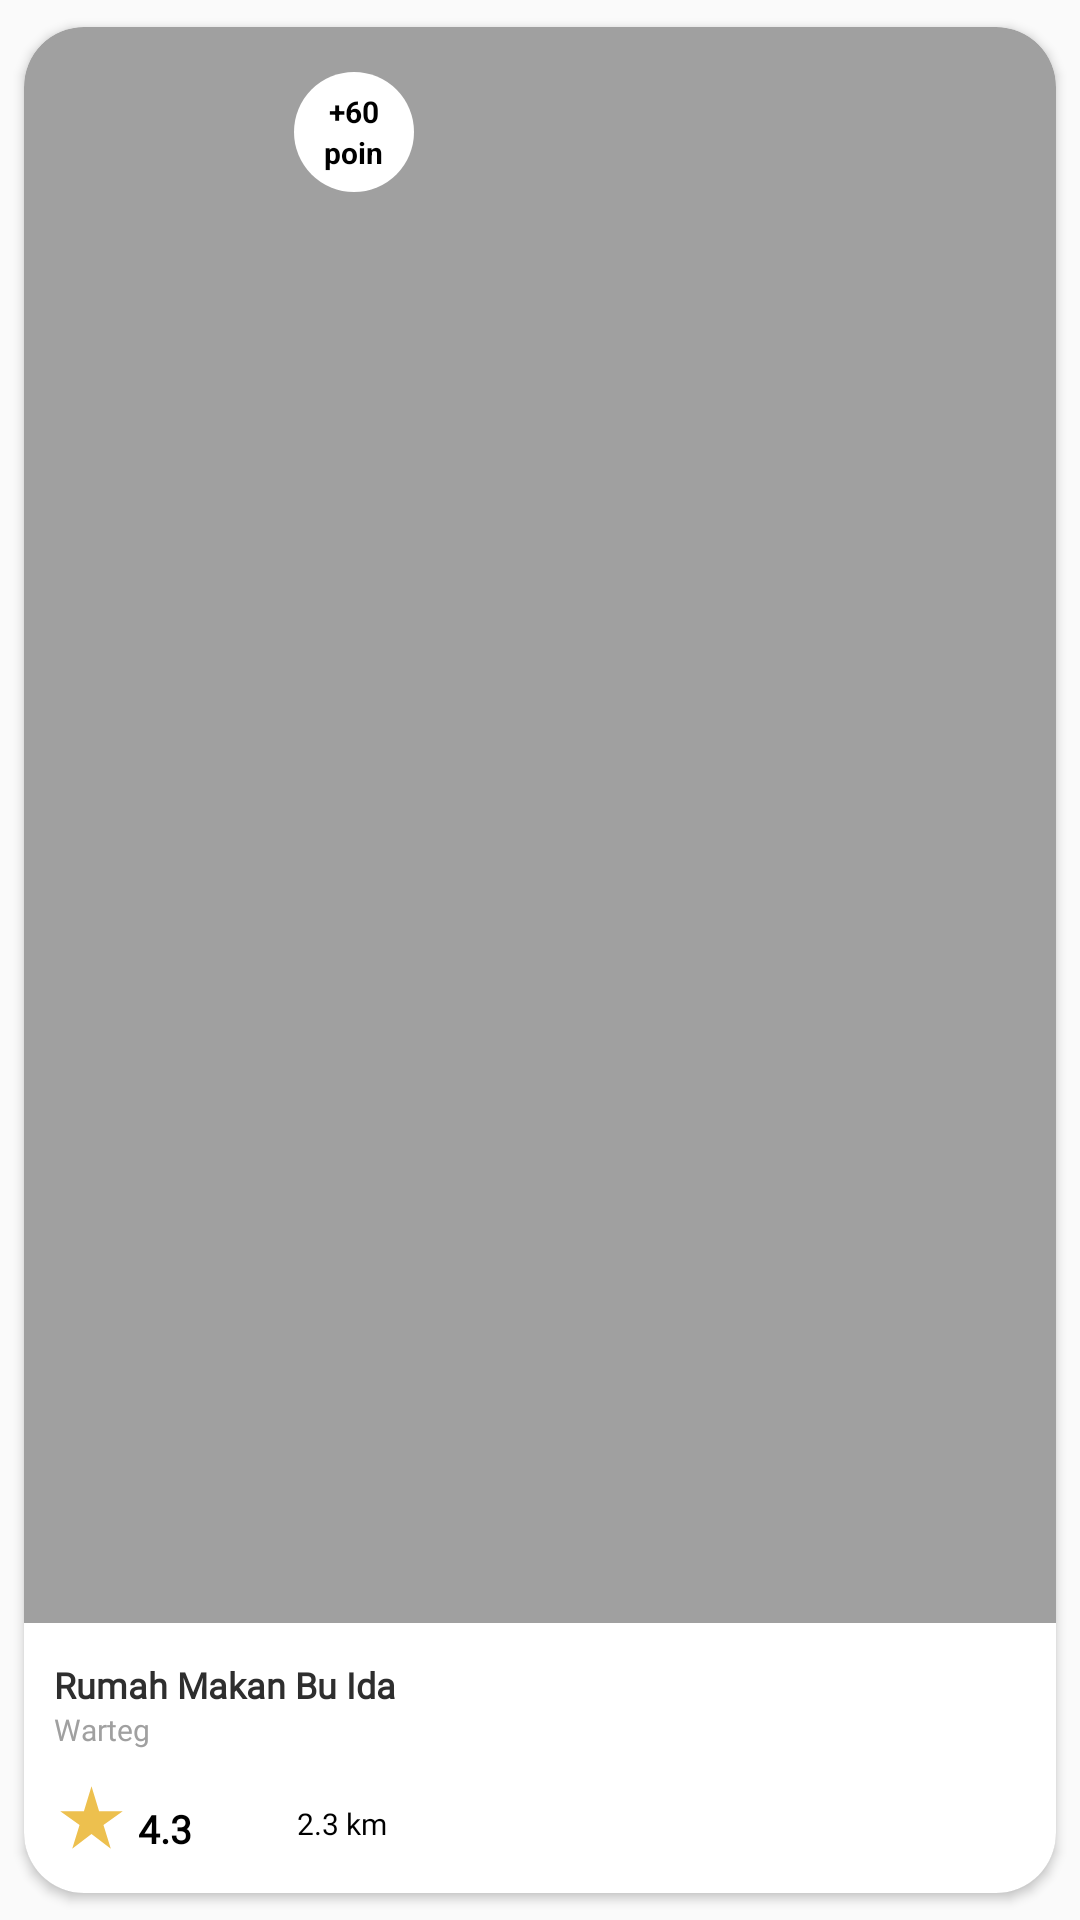

Icon click points for this 1080px x 1920px phone screenshot, format (x,y):
star: (91,1817)
